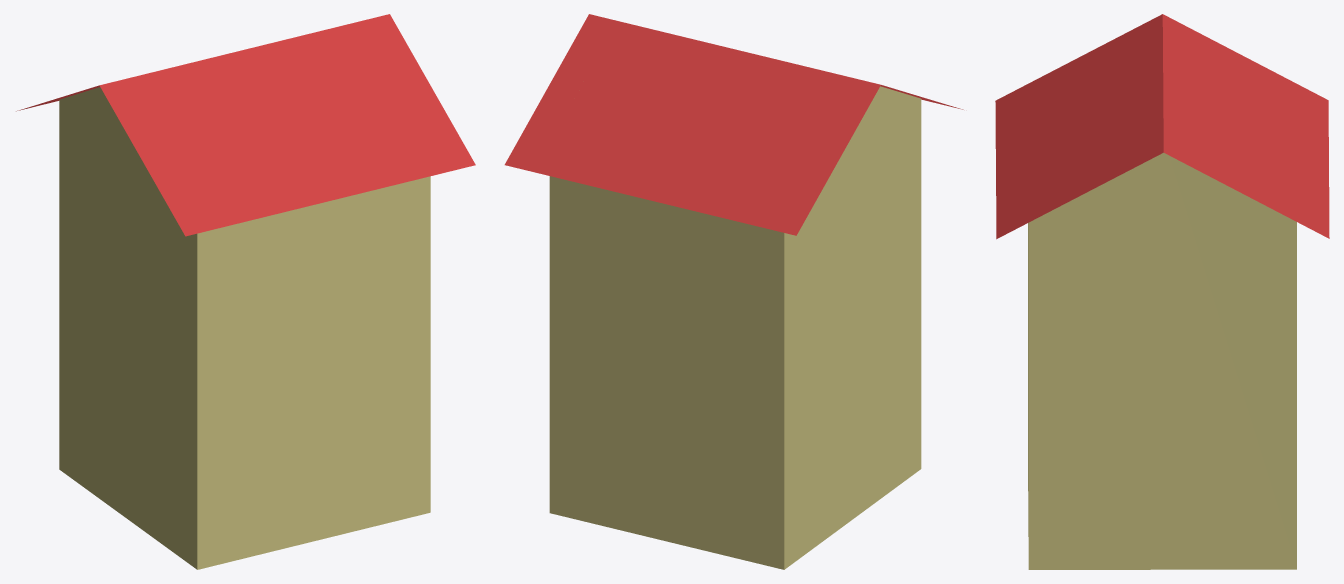
The picture shows the model from 3 angles, left to right: view 1: azimuth 30°, elevation 25°; view 2: azimuth 150°, elevation 25°; view 3: azimuth 270°, elevation 25°; orthographic projection. The views are drawn at different scales.
Size of the model in its own units: 5.09 by 5.16 by 7.35.
